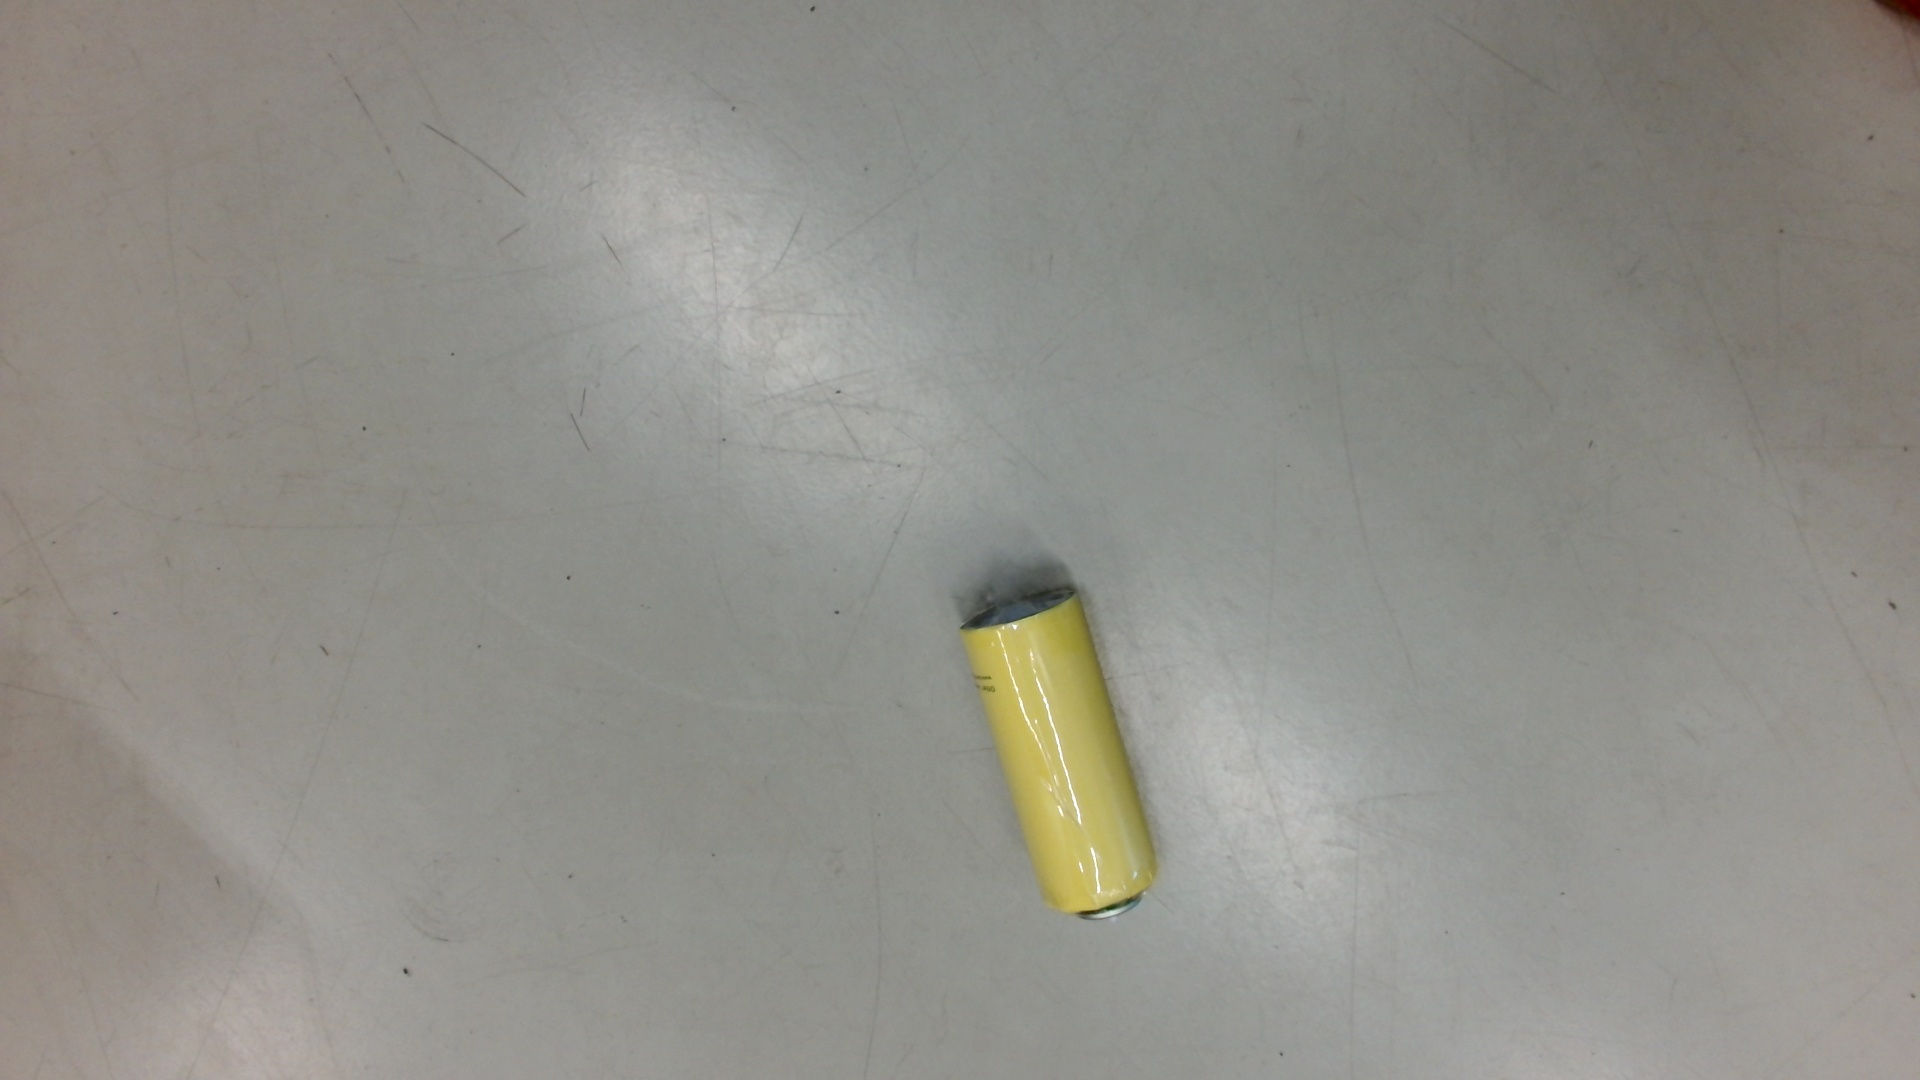Cylinder: (953, 574, 1172, 944)
